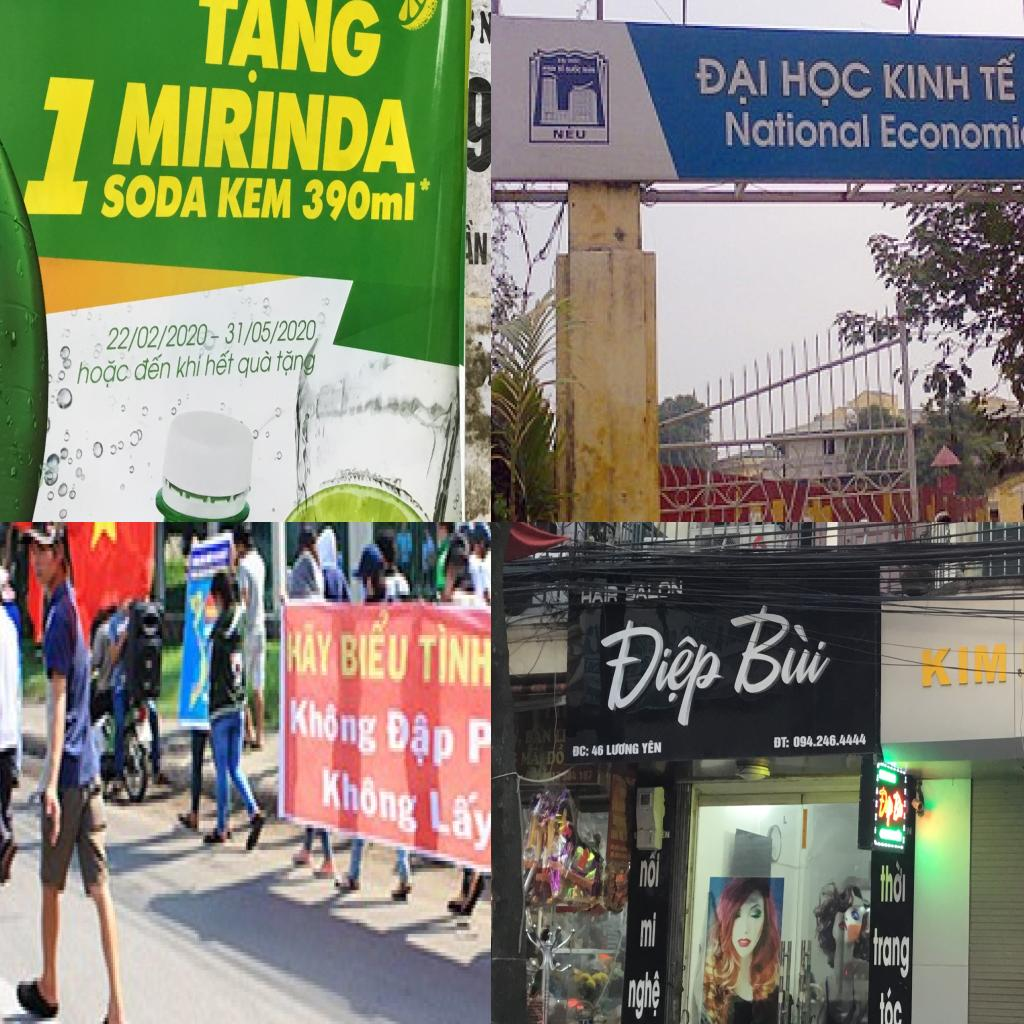text: (107, 74, 420, 178), (190, 0, 387, 88), (597, 608, 727, 732), (17, 62, 110, 224), (731, 604, 846, 703), (318, 762, 422, 842), (303, 176, 433, 226), (722, 110, 875, 151), (336, 606, 414, 686), (879, 110, 1024, 153), (412, 616, 491, 693), (289, 697, 381, 763), (383, 704, 457, 781), (98, 172, 209, 222), (428, 780, 491, 864), (777, 55, 875, 108), (691, 48, 775, 108), (104, 317, 214, 354), (880, 61, 972, 104), (215, 174, 294, 224), (921, 643, 1008, 687), (285, 617, 338, 686), (459, 67, 491, 176), (225, 314, 323, 348), (976, 50, 1020, 106), (75, 353, 133, 390), (872, 928, 911, 980), (273, 342, 322, 380), (459, 216, 489, 276), (628, 970, 662, 1022), (467, 711, 491, 780), (236, 345, 275, 384), (132, 352, 175, 386), (625, 579, 684, 603), (878, 860, 908, 905), (204, 348, 239, 384), (174, 348, 206, 386), (793, 734, 867, 749), (580, 583, 621, 606), (639, 849, 662, 889), (475, 0, 491, 56), (878, 987, 902, 1024), (640, 911, 657, 949), (524, 725, 552, 746), (550, 128, 588, 143), (606, 742, 640, 756), (547, 743, 565, 767), (878, 784, 890, 820), (521, 746, 541, 767), (566, 771, 593, 782), (641, 740, 662, 754), (772, 736, 790, 750), (572, 746, 590, 758), (555, 728, 566, 745), (591, 745, 604, 756), (662, 829, 670, 840), (907, 828, 912, 836)
